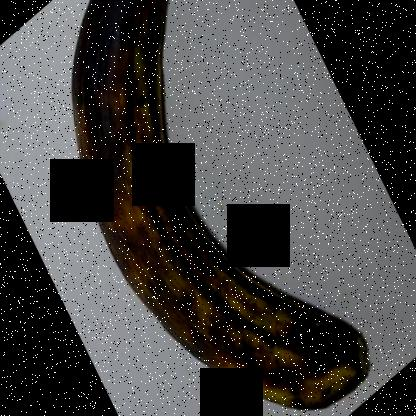overripe: (60, 1, 370, 415)
